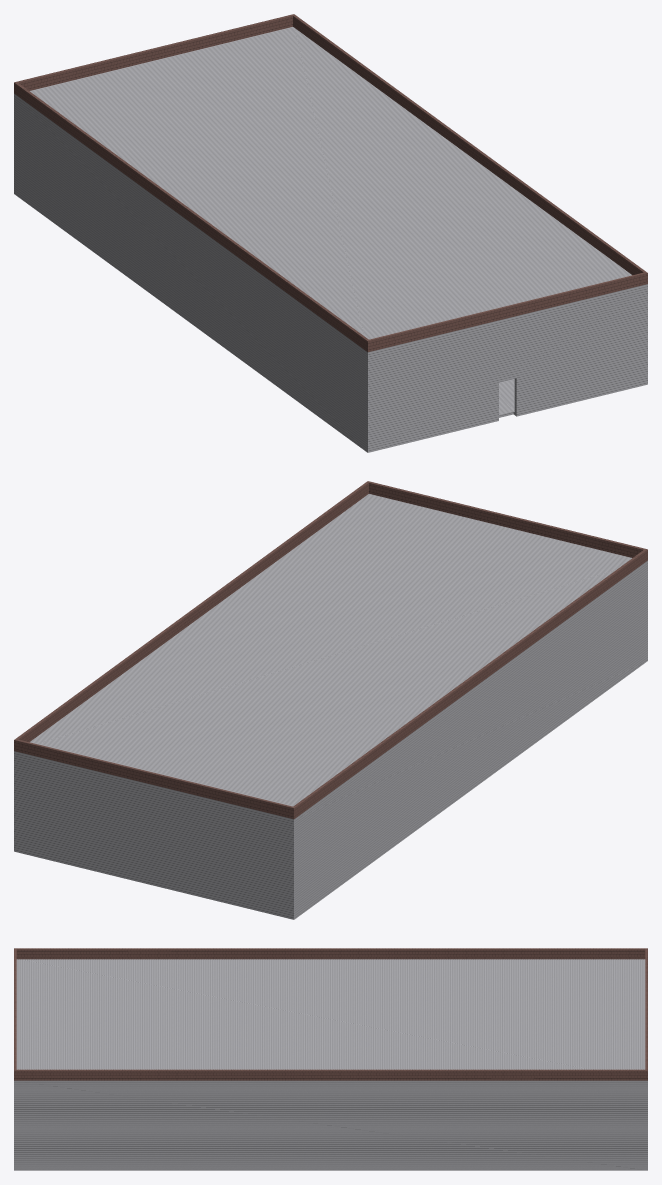
File: movie_theater.glb
The picture shows the model from 3 angles, top to bottom: view 1: azimuth 30°, elevation 25°; view 2: azimuth 150°, elevation 25°; view 3: azimuth 270°, elevation 25°; orthographic projection. The views are drawn at different scales.
Visible parts, largest first — view 1: movie_theater-col; view 2: movie_theater-col; view 3: movie_theater-col.
Boxes of the visible parts, x1=… form: movie_theater-col: x1=14, y1=14, x2=647, y2=452; movie_theater-col: x1=14, y1=481, x2=647, y2=919; movie_theater-col: x1=14, y1=948, x2=647, y2=1170.
Bounding box in the file's own units: 16 × 6.09 × 35.
2 materials, 2 textured.
